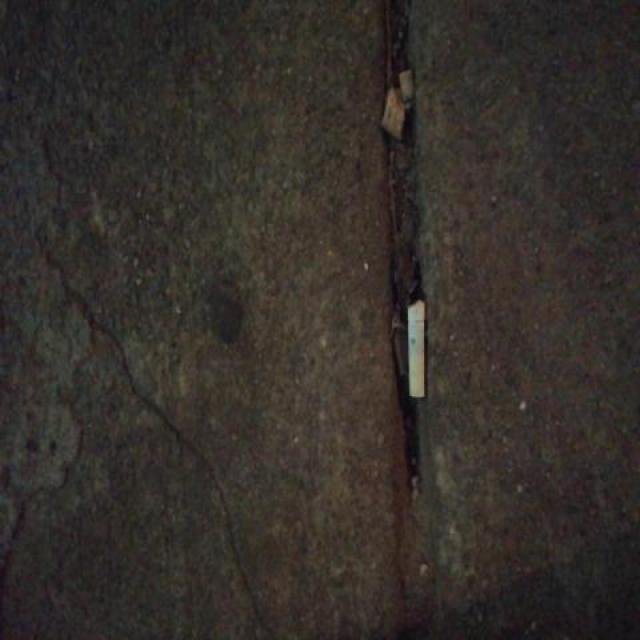non-organic waste: (405, 295, 427, 401)
